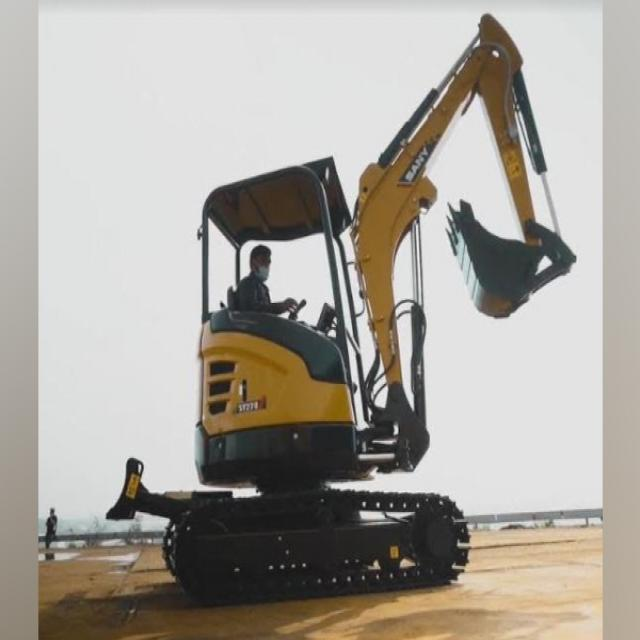C_E: (103, 9, 580, 608)
